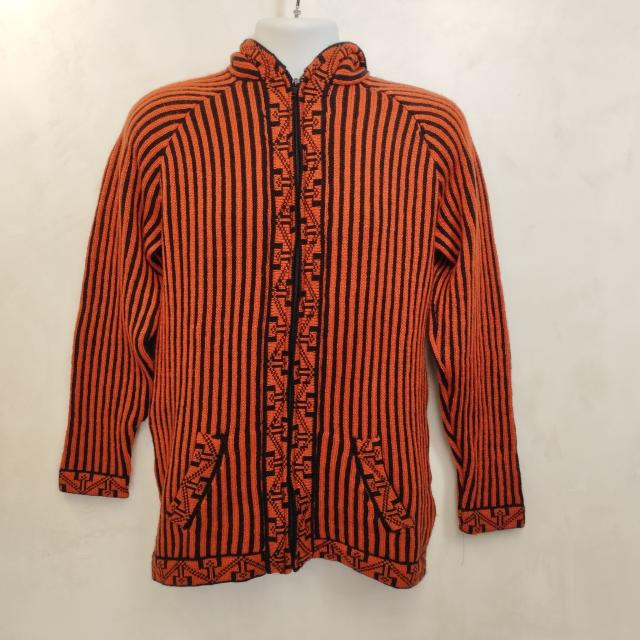Chompa: (58, 33, 526, 590)
